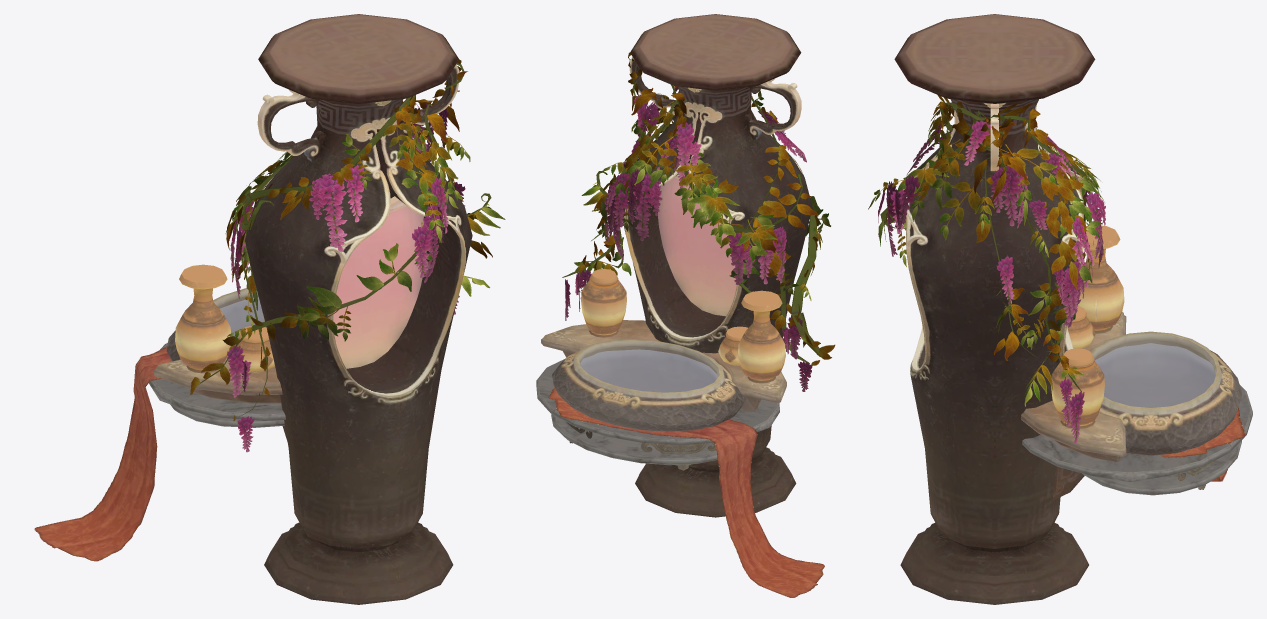
File: furniture-19716.glb
The picture shows the model from 3 angles, left to right: view 1: azimuth 30°, elevation 25°; view 2: azimuth 150°, elevation 25°; view 3: azimuth 270°, elevation 25°; orthographic projection. The views are drawn at different scales.
Size of the model in its own units: 1.51 by 1.98 by 1.35.
3 materials, 2 textured.
